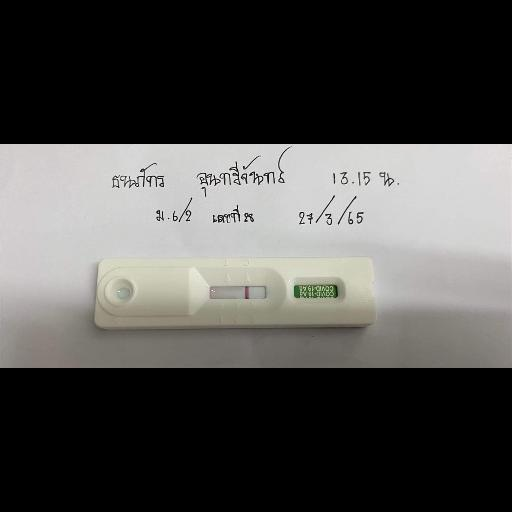Neg: (96, 258, 374, 324)
